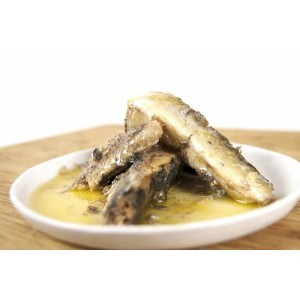sardine_brain food: (60, 88, 275, 223)
